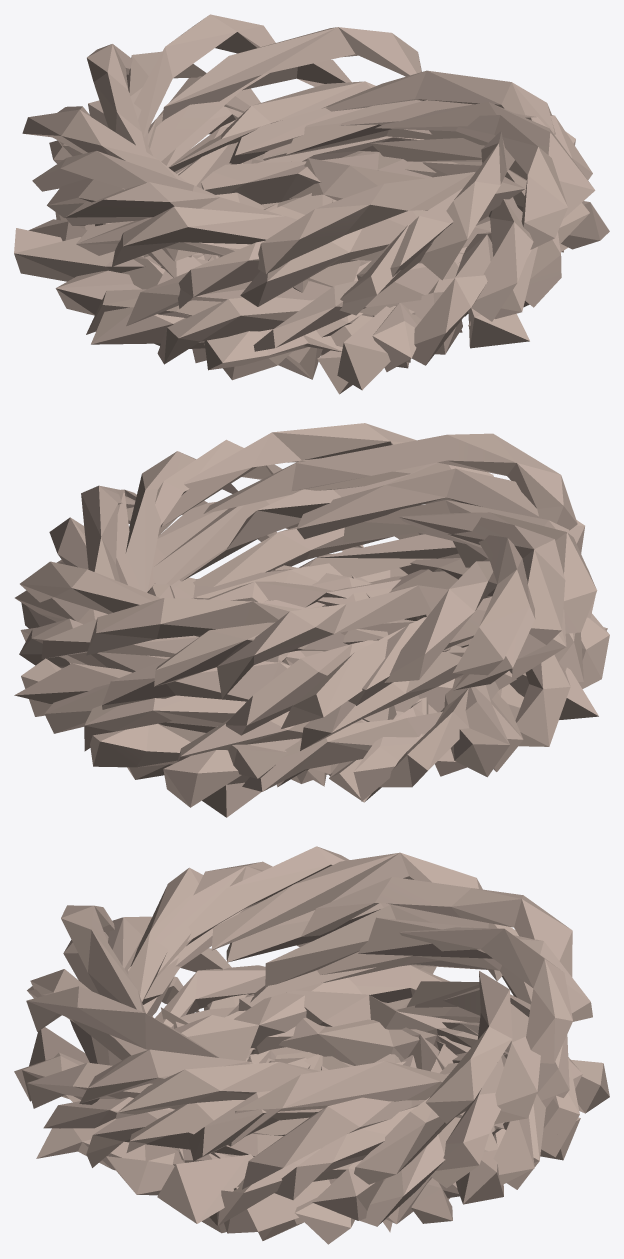
Rendered from nest.glb.
3 views of the same model, one above another, from view 1: azimuth 30°, elevation 25°; view 2: azimuth 150°, elevation 25°; view 3: azimuth 270°, elevation 25° (orthographic). The views are drawn at different scales.
Visible parts, largest first — view 1: Nest_Gen__1_; view 2: Nest_Gen__1_; view 3: Nest_Gen__1_.
Boxes of the visible parts, x1,y1,x2,y2 form: Nest_Gen__1_: [14, 14, 609, 394]; Nest_Gen__1_: [14, 423, 609, 817]; Nest_Gen__1_: [14, 846, 609, 1244].
Bounding box in the file's own units: 3.52 × 1.43 × 3.52.
